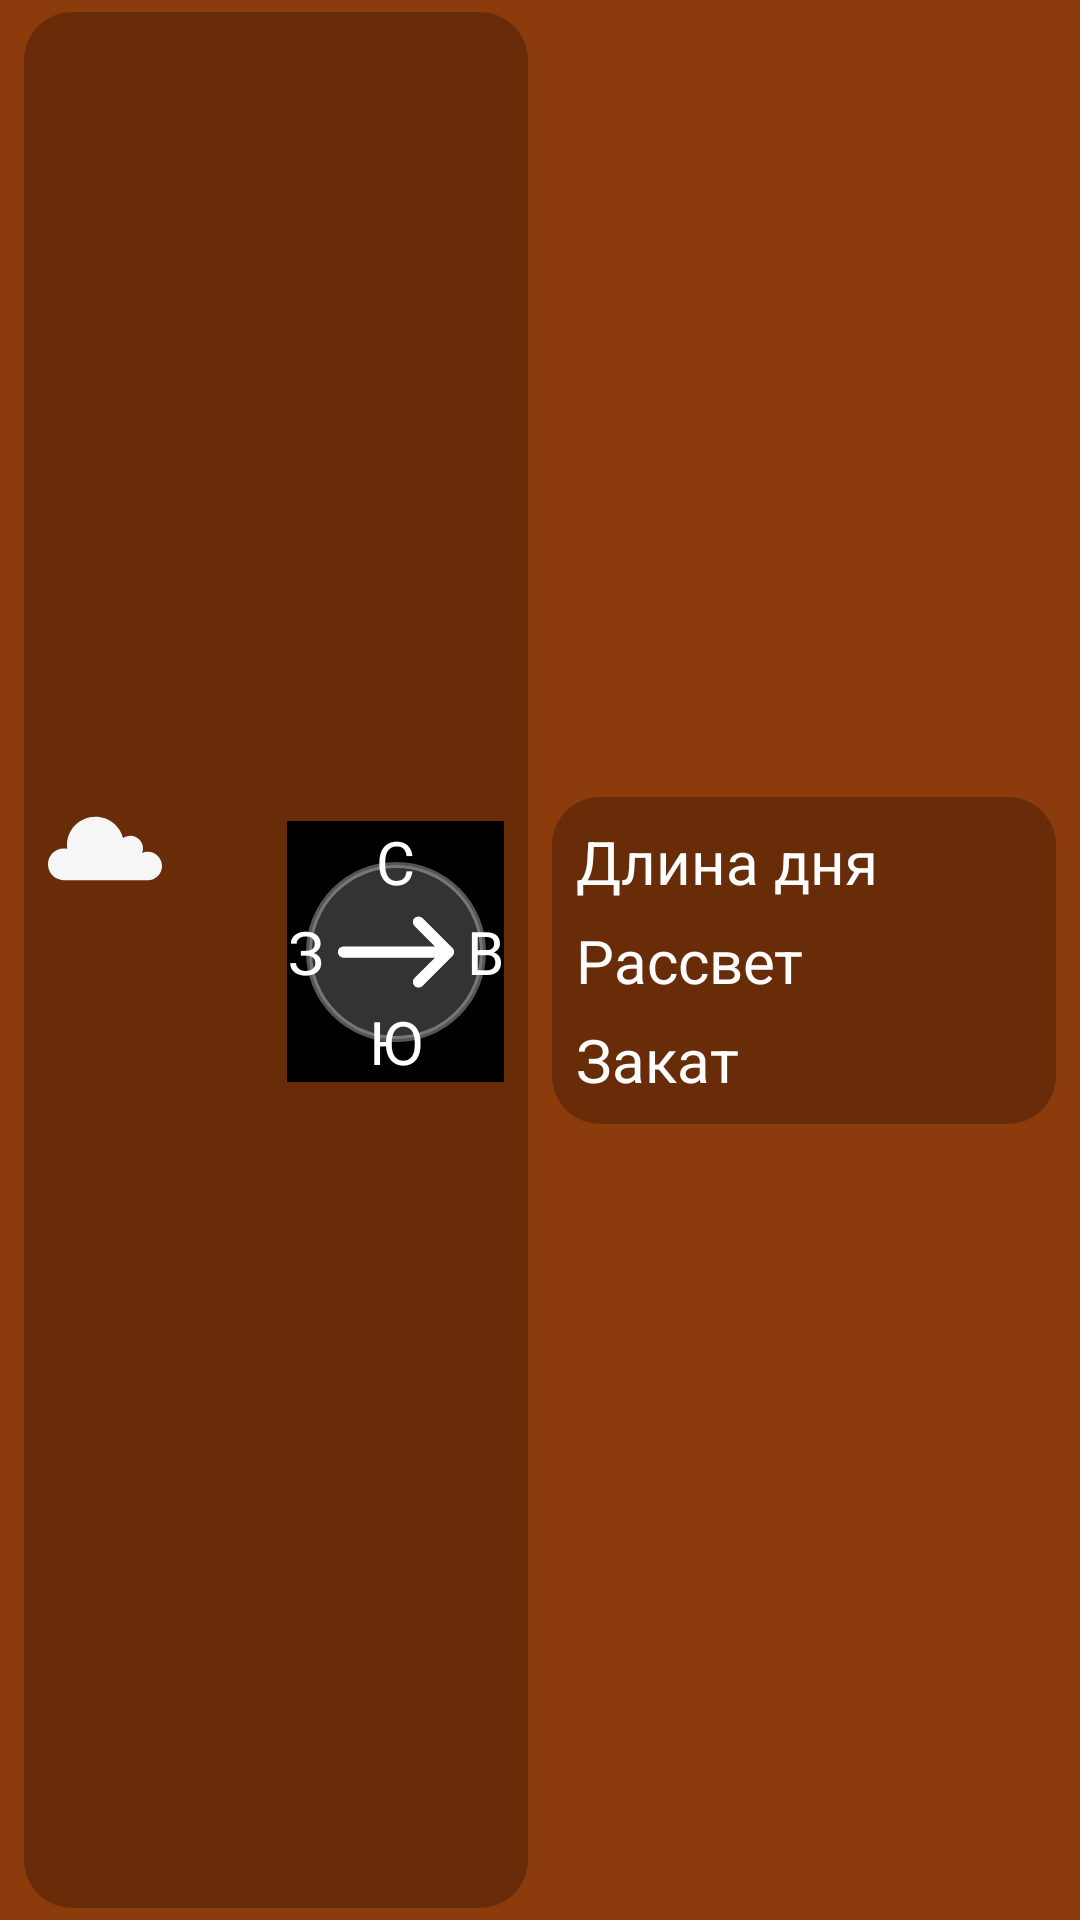

Screen size 1080w x 1920h. Icon name, then its center in pixels as (x=x, y=y):
cloud: (x=105, y=848)
